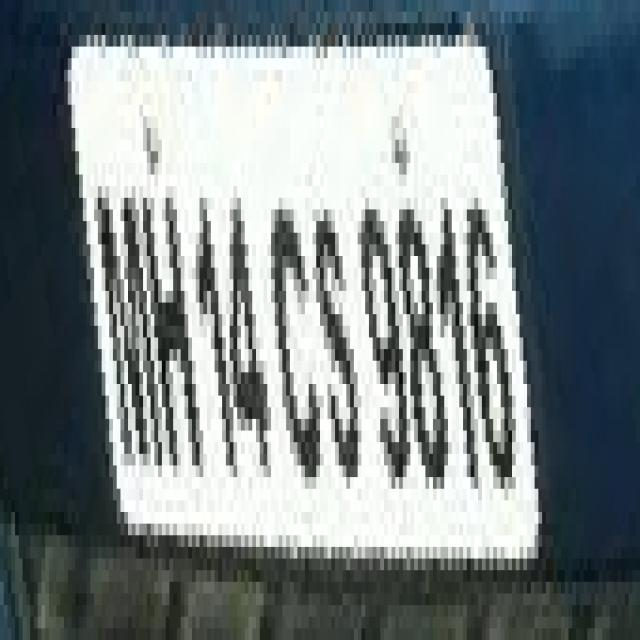license_plate: (22, 24, 584, 594)
